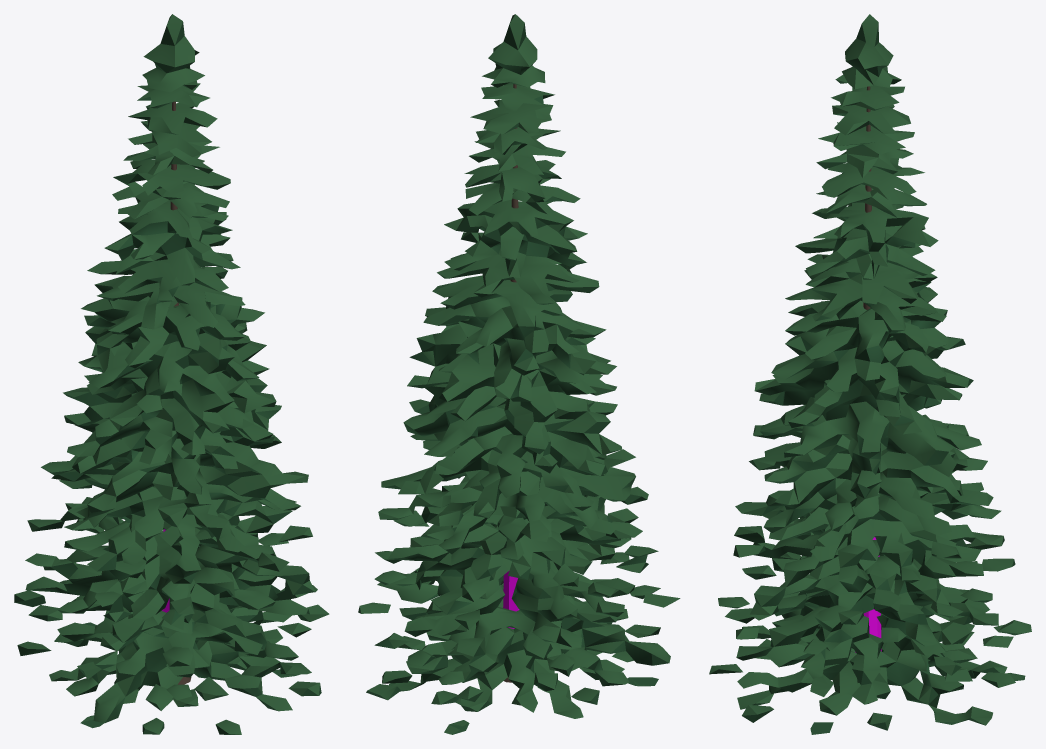
Rendered from EN_Tree_Spruce_A.fbx.
3 views of the same model, side by side, from view 1: azimuth 30°, elevation 25°; view 2: azimuth 150°, elevation 25°; view 3: azimuth 270°, elevation 25° (orthographic).
Visible parts, largest first — view 1: EN_Tree_Spruce_A_LOD0; view 2: EN_Tree_Spruce_A_LOD0; view 3: EN_Tree_Spruce_A_LOD0.
Boxes of the visible parts, x1,y1,x2,y2 form: EN_Tree_Spruce_A_LOD0: (14,14,329,734); EN_Tree_Spruce_A_LOD0: (358,14,680,734); EN_Tree_Spruce_A_LOD0: (709,14,1031,734).
Size of what is drawn, in the model's own units: 6.79 by 17.05 by 7.45.
